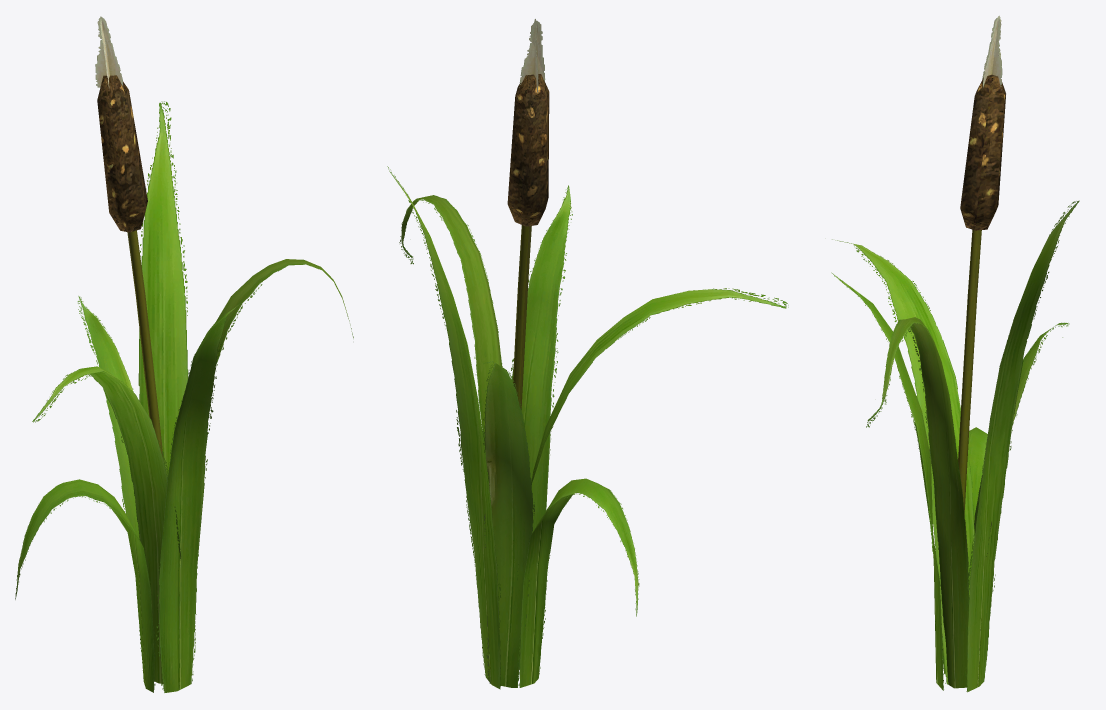
File: reed01.obj
The picture shows the model from 3 angles, left to right: view 1: azimuth 30°, elevation 25°; view 2: azimuth 150°, elevation 25°; view 3: azimuth 270°, elevation 25°; orthographic projection. The views are drawn at different scales.
Visible parts, largest first — view 1: reed01; view 2: reed01; view 3: reed01.
Boxes of the visible parts, x1,y1,x2,y2 form: reed01: (15,16,353,692); reed01: (387,19,788,689); reed01: (831,15,1079,692).
Size of the model in its own units: 69.34 by 124 by 47.55.
1 material, 1 textured.
